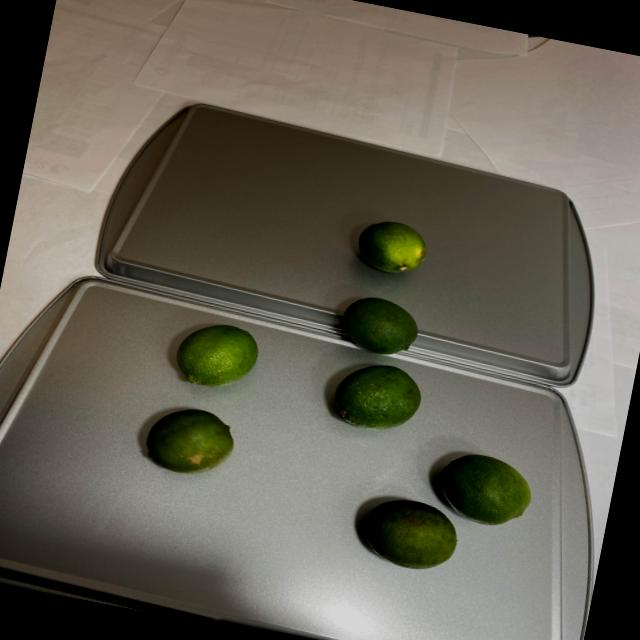lemon: (291, 211, 578, 582), (133, 316, 264, 482)
